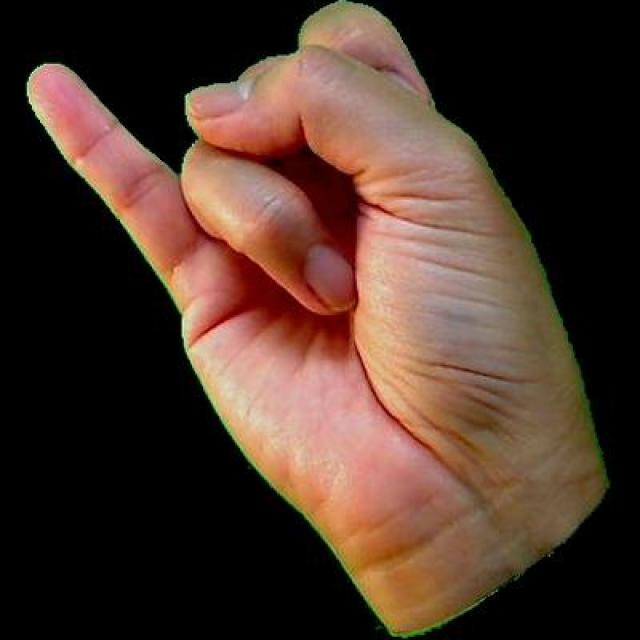j: (21, 0, 613, 637)
